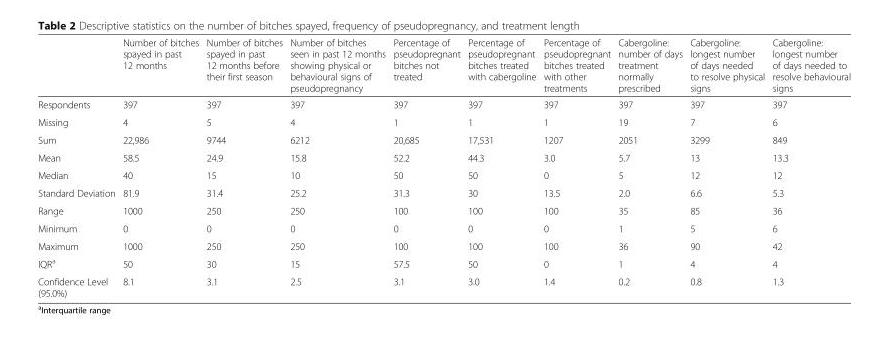table: (38, 36, 850, 298)
table column: (286, 36, 389, 298), (202, 36, 286, 298), (119, 36, 202, 298), (686, 36, 768, 298), (768, 36, 850, 298), (38, 36, 119, 298), (464, 36, 540, 298), (389, 36, 464, 298), (540, 36, 614, 298), (614, 36, 686, 298)
table column header: (38, 36, 850, 95)
table row: (38, 36, 850, 95), (38, 272, 850, 298), (38, 253, 850, 272), (38, 95, 850, 113), (38, 130, 850, 148), (38, 148, 850, 166), (38, 183, 850, 201), (38, 201, 850, 219), (38, 113, 850, 130), (38, 166, 850, 183), (38, 219, 850, 236), (38, 236, 850, 253)
